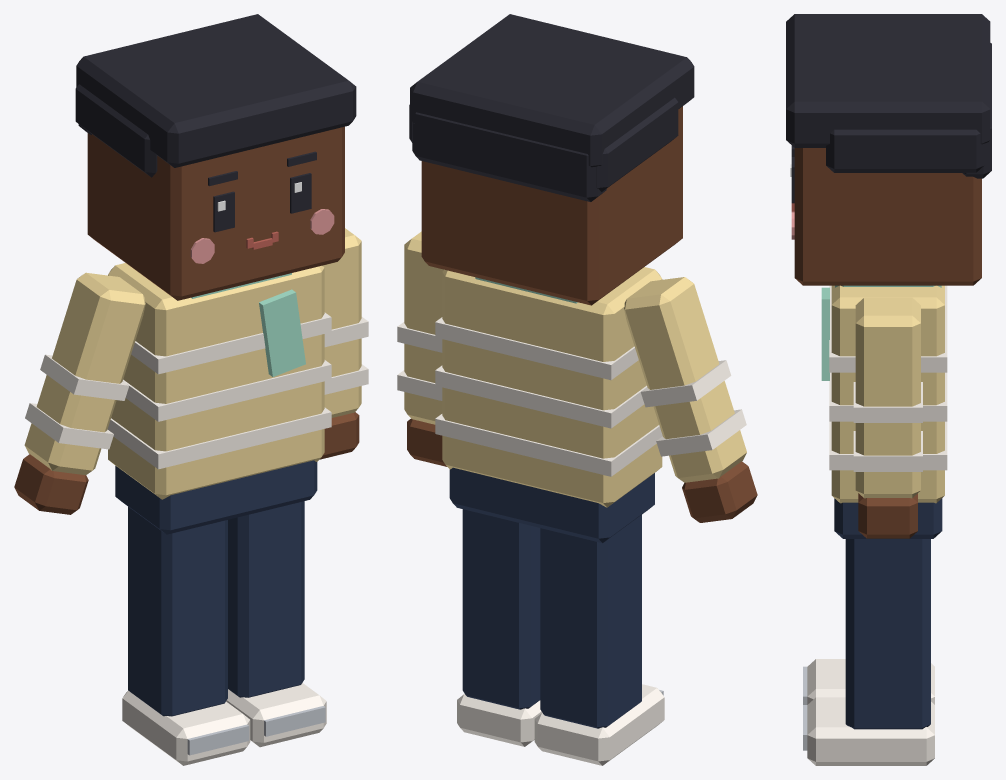
Rendered from CleanACat_NPC_Customer_Mo.fbx.
The picture shows the model from 3 angles, left to right: view 1: azimuth 30°, elevation 25°; view 2: azimuth 150°, elevation 25°; view 3: azimuth 270°, elevation 25°; orthographic projection. The views are drawn at different scales.
Visible parts, largest first — view 1: CleanACat_NPC_Customer_Mo_Head, CleanACat_NPC_Customer_Mo_Body, CleanACat_NPC_Customer_Mo_LegR, CleanACat_NPC_Customer_Mo_LegL, CleanACat_NPC_Customer_Mo_ArmR, CleanACat_NPC_Customer_Mo_ArmL; view 2: CleanACat_NPC_Customer_Mo_Head, CleanACat_NPC_Customer_Mo_Body, CleanACat_NPC_Customer_Mo_LegR, CleanACat_NPC_Customer_Mo_ArmR, CleanACat_NPC_Customer_Mo_LegL, CleanACat_NPC_Customer_Mo_ArmL; view 3: CleanACat_NPC_Customer_Mo_Head, CleanACat_NPC_Customer_Mo_LegL, CleanACat_NPC_Customer_Mo_ArmL, CleanACat_NPC_Customer_Mo_Body, CleanACat_NPC_Customer_Mo_LegR.
Part boxes in pixels (bbox=[...]): CleanACat_NPC_Customer_Mo_Head: bbox=[75, 14, 356, 300]; CleanACat_NPC_Customer_Mo_Body: bbox=[107, 263, 331, 534]; CleanACat_NPC_Customer_Mo_LegR: bbox=[122, 506, 250, 765]; CleanACat_NPC_Customer_Mo_LegL: bbox=[226, 501, 326, 747]; CleanACat_NPC_Customer_Mo_ArmR: bbox=[14, 272, 145, 514]; CleanACat_NPC_Customer_Mo_ArmL: bbox=[320, 228, 368, 459]; CleanACat_NPC_Customer_Mo_Head: bbox=[409, 14, 694, 305]; CleanACat_NPC_Customer_Mo_Body: bbox=[435, 267, 662, 543]; CleanACat_NPC_Customer_Mo_LegR: bbox=[534, 515, 664, 765]; CleanACat_NPC_Customer_Mo_ArmR: bbox=[624, 277, 757, 522]; CleanACat_NPC_Customer_Mo_LegL: bbox=[457, 509, 542, 746]; CleanACat_NPC_Customer_Mo_ArmL: bbox=[397, 231, 446, 466]; CleanACat_NPC_Customer_Mo_Head: bbox=[786, 14, 991, 285]; CleanACat_NPC_Customer_Mo_LegL: bbox=[803, 539, 934, 765]; CleanACat_NPC_Customer_Mo_ArmL: bbox=[853, 297, 922, 538]; CleanACat_NPC_Customer_Mo_Body: bbox=[821, 285, 947, 538]; CleanACat_NPC_Customer_Mo_LegR: bbox=[803, 659, 934, 704].
Bounding box in the file's own units: 2.74 × 5.24 × 1.45.
Materials: 1 (1 with a texture image).
